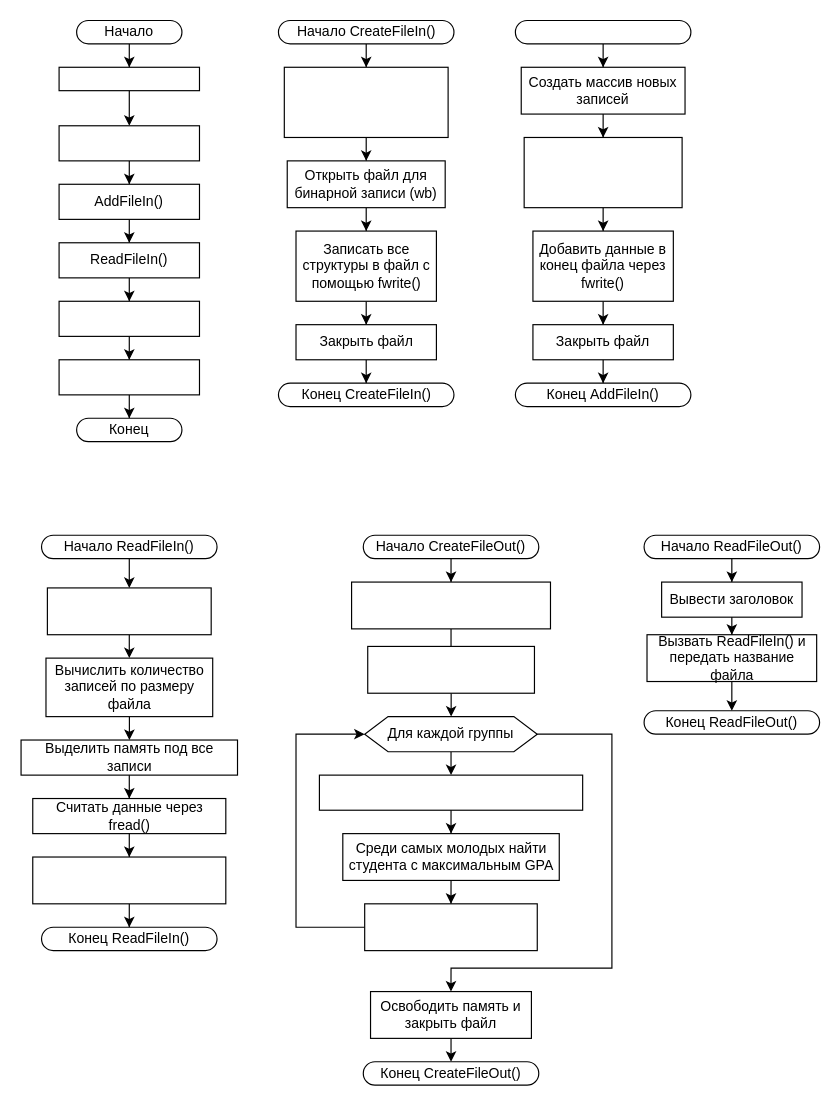
The diagram is 840 pixels wide and 1106 high, and some of its shapes have lost their labels. The shapes that lost their labels are listed below. From the top down, each one's box as (x1, y1, x2, y2) in pixels, then its label:
(514, 19, 691, 44): Начало AddFileIn()
(58, 66, 199, 91): Объявление struct
(283, 66, 448, 137): Создание массива структур students с предустановленными значениями
(58, 125, 199, 161): CreateFileIn()
(523, 136, 682, 208): Открыть файл для бинарного добавления(ab)
(58, 300, 199, 336): CreateFileOut()
(58, 359, 199, 395): ReadFileOut()
(46, 587, 211, 635): Открыть файл в режиме бинарного чтения (rb)
(350, 581, 550, 629): Прочесть все записи студентов из файла fileName1
(367, 645, 534, 693): Найти уникальные названия групп
(318, 774, 583, 810): Определить максимальный год рождения
(32, 856, 226, 904): Вывести данные на экран в табличной форме
(364, 903, 537, 951): Записать этого студента в новый файл fileName2
